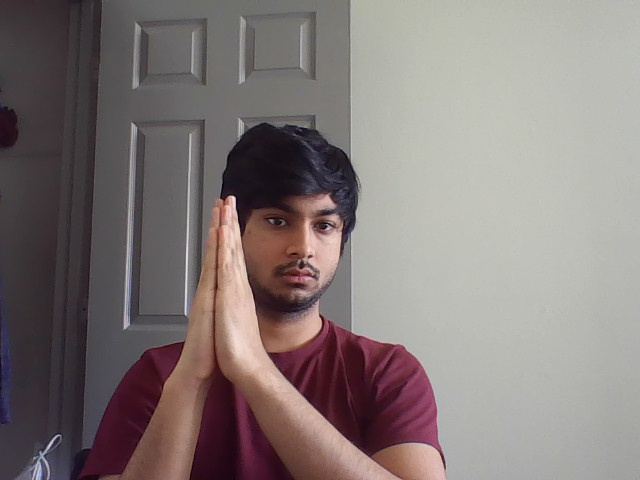start: (174, 190, 289, 388)
